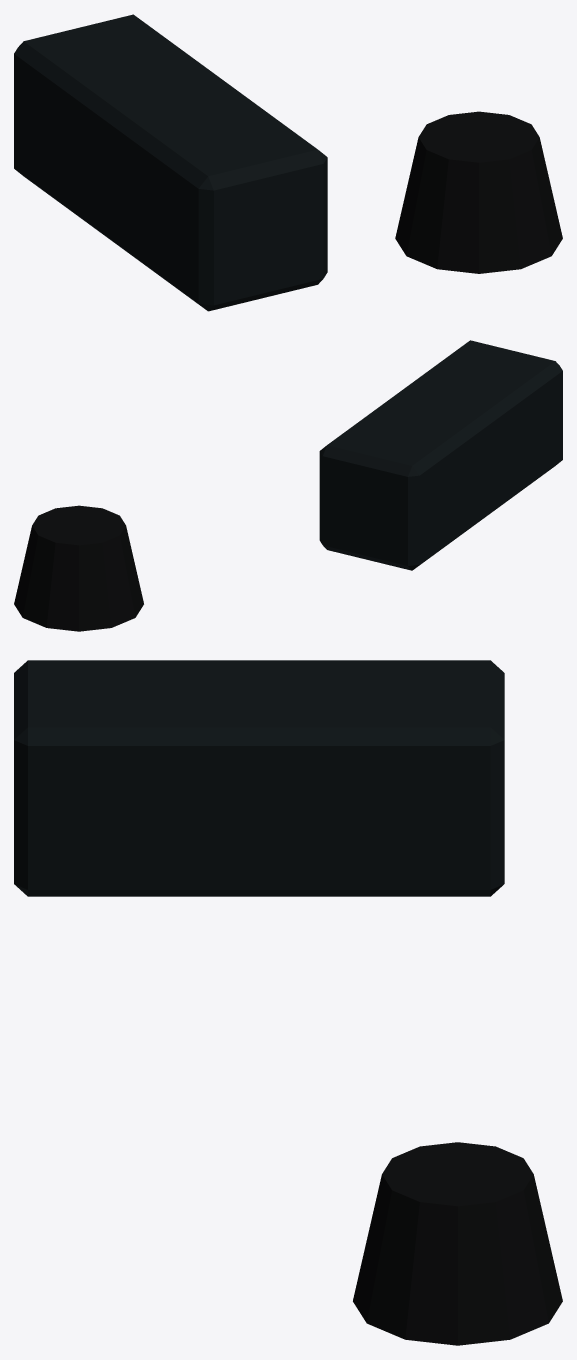
File: Cockpit_FixedWing__Controls.obj
The picture shows the model from 3 angles, top to bottom: view 1: azimuth 30°, elevation 25°; view 2: azimuth 150°, elevation 25°; view 3: azimuth 270°, elevation 25°; orthographic projection. The views are drawn at different scales.
Visible parts, largest first — view 1: Throttle_quadrant, Stick_boot; view 2: Throttle_quadrant, Stick_boot; view 3: Throttle_quadrant, Stick_boot.
Boxes of the visible parts, x1,y1,x2,y2 form: Throttle_quadrant: [14, 14, 327, 311]; Stick_boot: [395, 111, 562, 273]; Throttle_quadrant: [319, 340, 562, 570]; Stick_boot: [14, 505, 143, 631]; Throttle_quadrant: [14, 660, 504, 896]; Stick_boot: [353, 1142, 562, 1345].
Bounding box in the file's own units: 0.65 × 0.35 × 0.47.
